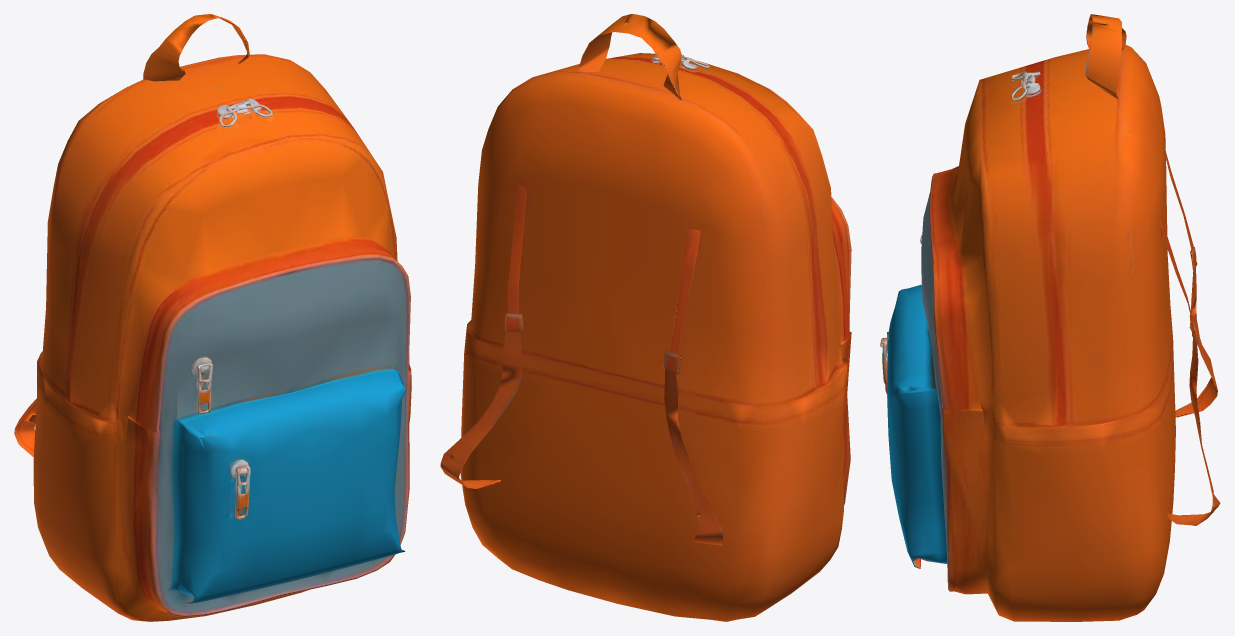
Rendered from backpack.glb.
3 renders of one model, left to right at view 1: azimuth 30°, elevation 25°; view 2: azimuth 150°, elevation 25°; view 3: azimuth 270°, elevation 25°, orthographic. The views are drawn at different scales.
Bounding box in the file's own units: 0.5752 × 0.9517 × 0.5181.
Materials: 1 (1 with a texture image).
